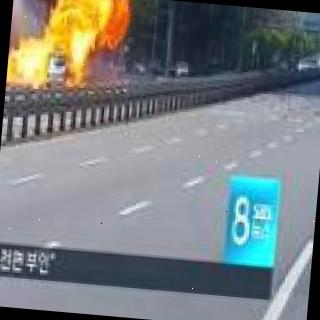fire: (57, 0, 132, 57), (7, 44, 52, 82), (60, 58, 90, 82)
